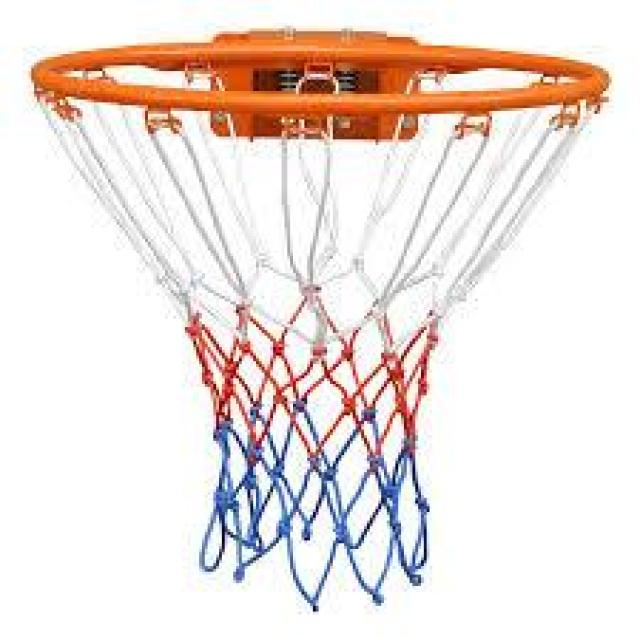hoop: (31, 36, 621, 604)
